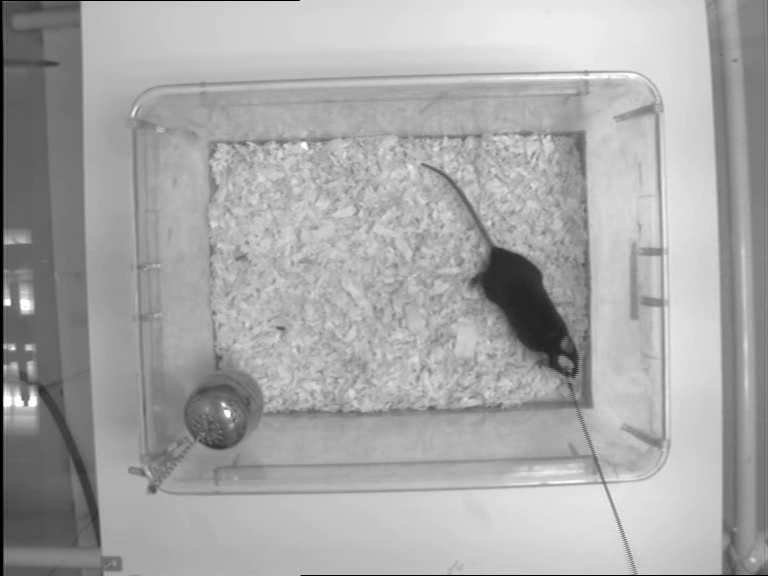mice: (419, 162, 582, 380)
